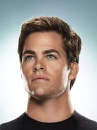male: (15, 20, 82, 102)
